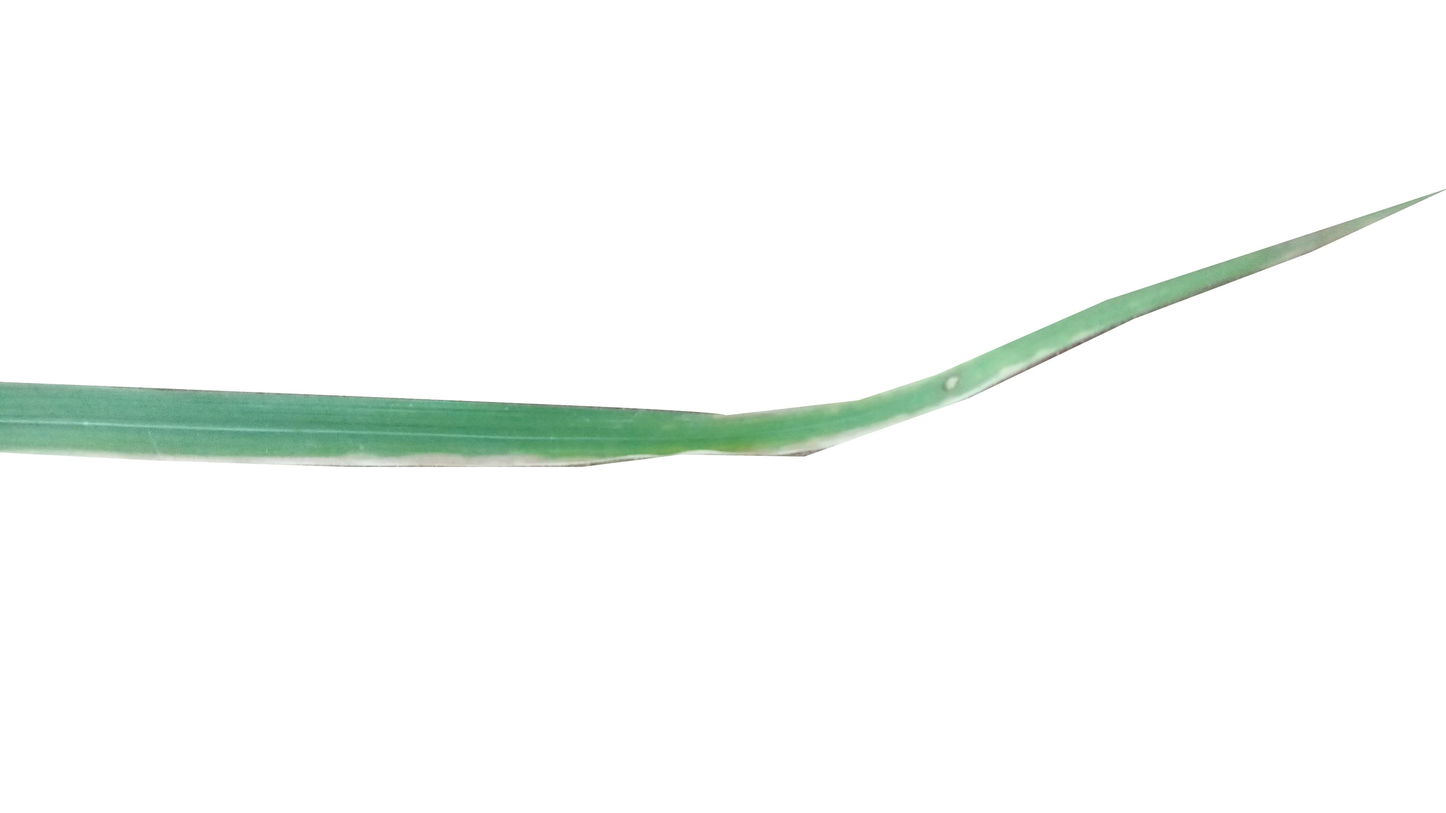Blight: (360, 434, 560, 471)
